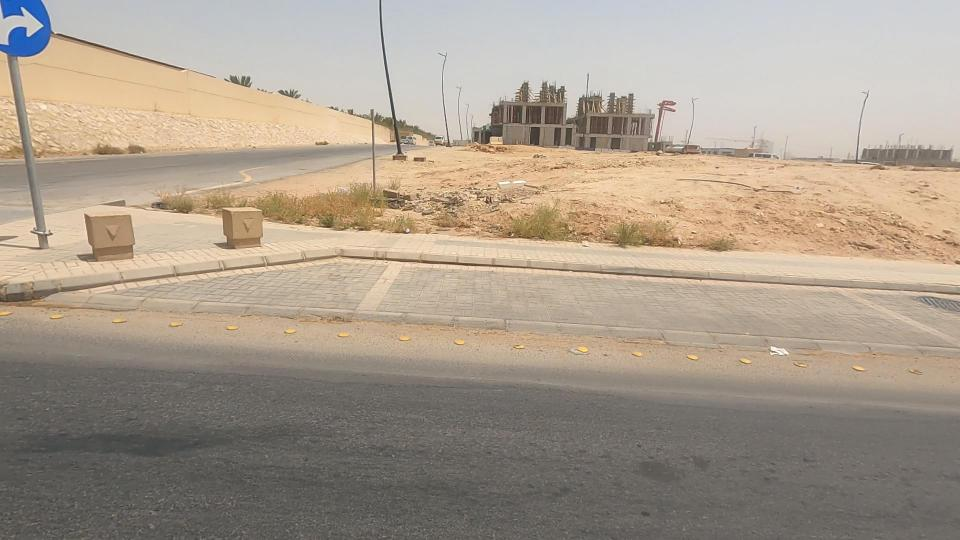GARBAGE: (738, 317, 811, 384)
